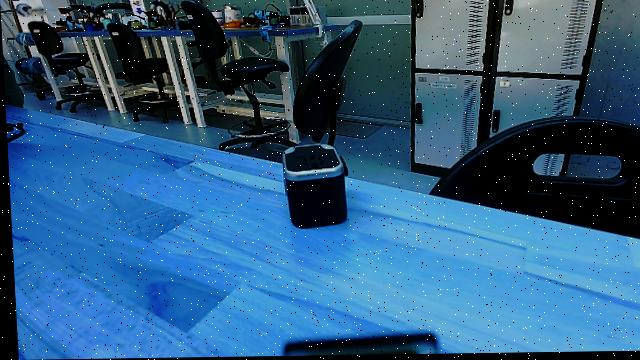adapter: (274, 139, 355, 233)
